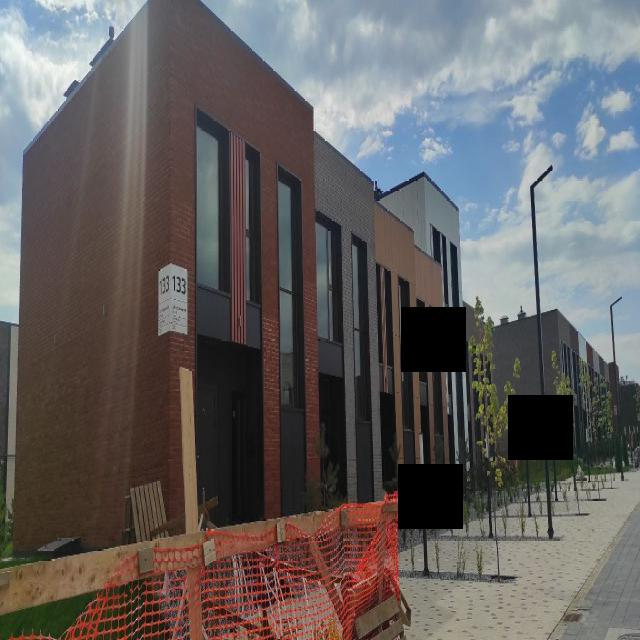Building: (14, 0, 482, 552)
